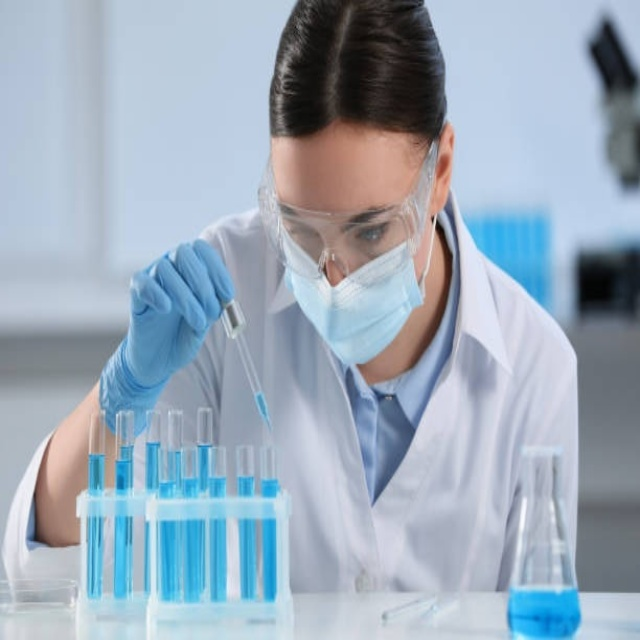Gafas: (260, 136, 437, 288)
Guantes: (97, 238, 238, 439)
Mascara: (277, 207, 436, 369)
